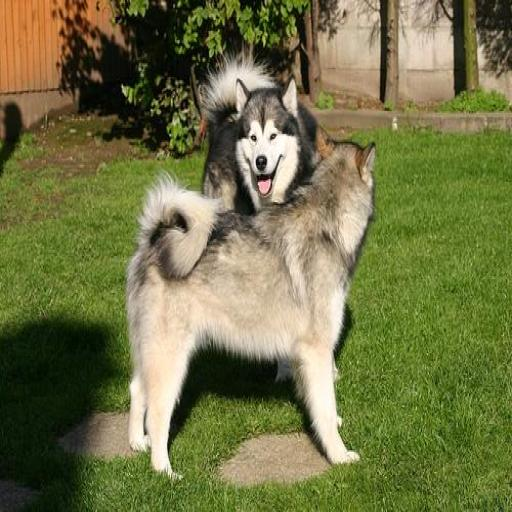dog_face: (230, 75, 301, 196)
